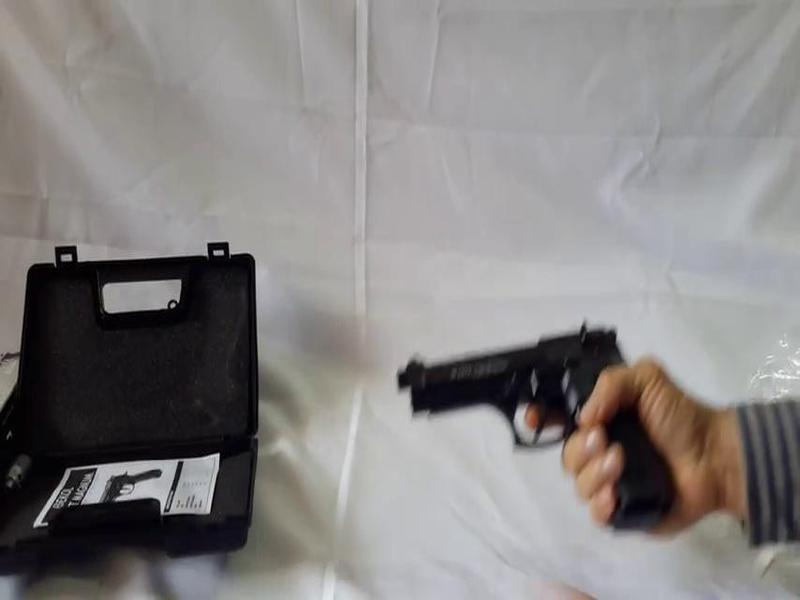Pistola: (400, 309, 698, 540)
